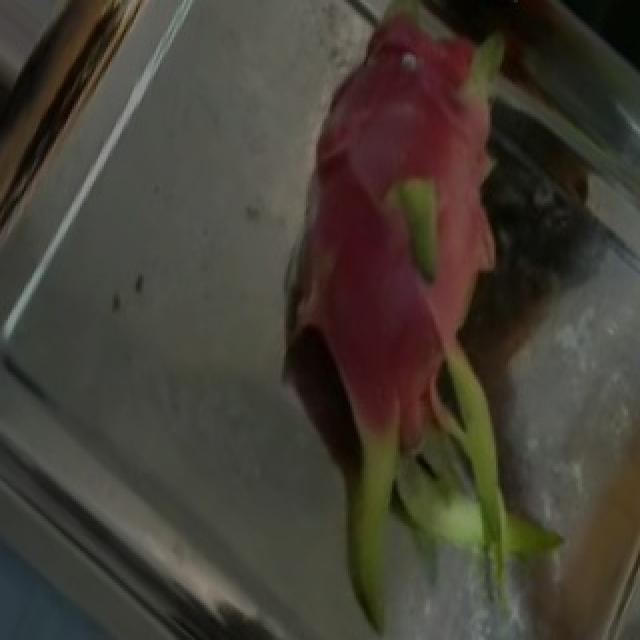fruit: (212, 225, 630, 638), (228, 0, 640, 409)
